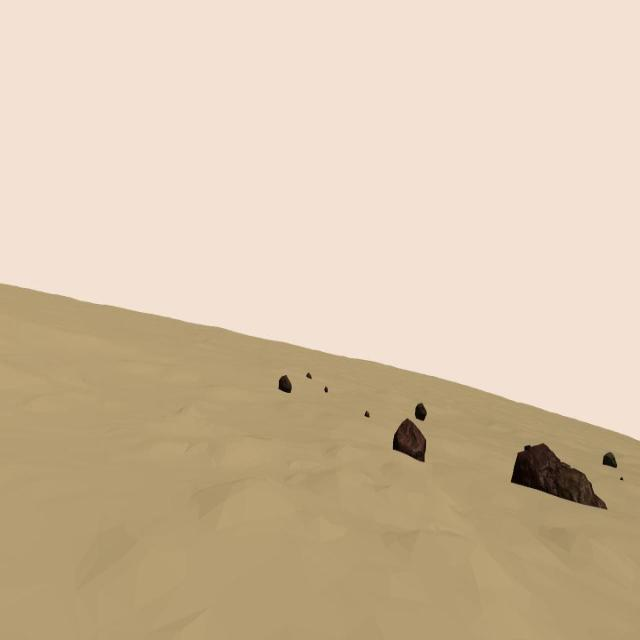rock: (511, 441, 607, 511), (393, 416, 427, 464), (277, 374, 292, 394), (602, 450, 616, 469), (414, 402, 426, 422), (364, 409, 370, 417), (306, 371, 312, 378), (524, 444, 531, 450), (324, 385, 328, 393), (619, 475, 623, 482)
